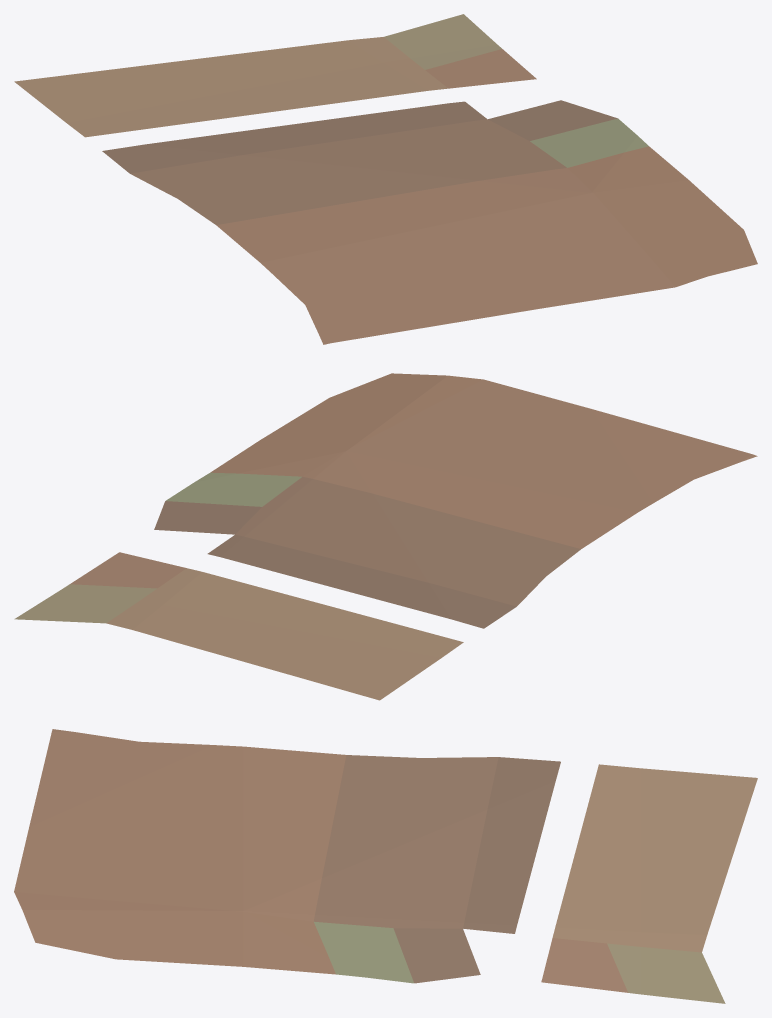
File: farm_27_41_soil.glb
3 renders of one model, top to bottom at view 1: azimuth 30°, elevation 25°; view 2: azimuth 150°, elevation 25°; view 3: azimuth 270°, elevation 25°, orthographic. The views are drawn at different scales.
Parts seen in each view (by area): view 1: geometry_0; view 2: geometry_0; view 3: geometry_0.
Boxes of the visible parts, box(x1,y1,x2,y2) form: geometry_0: box(14, 14, 757, 344); geometry_0: box(14, 373, 757, 700); geometry_0: box(14, 729, 757, 1003).
Bounding box in the file's own units: 109 × 10.14 × 150.
